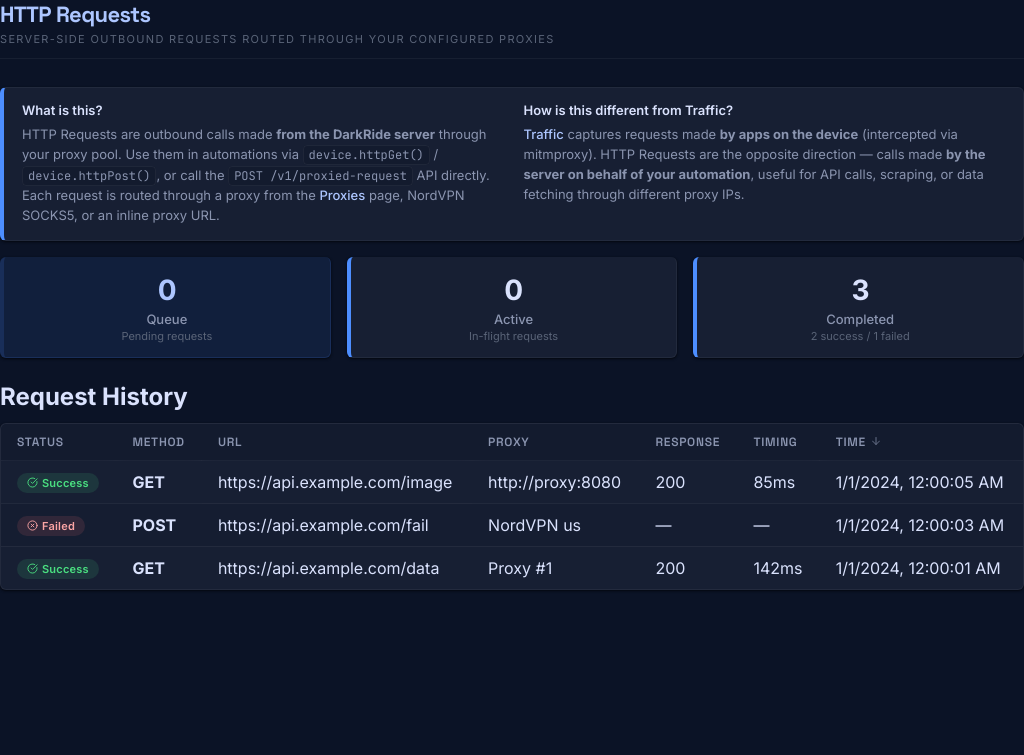
it: ProxiedRequests › shows binary indicator for base64 response
Step 1. Click the row with test id "row-req_3" → (512, 482), box x1=1 y1=460 x2=1023 y2=503
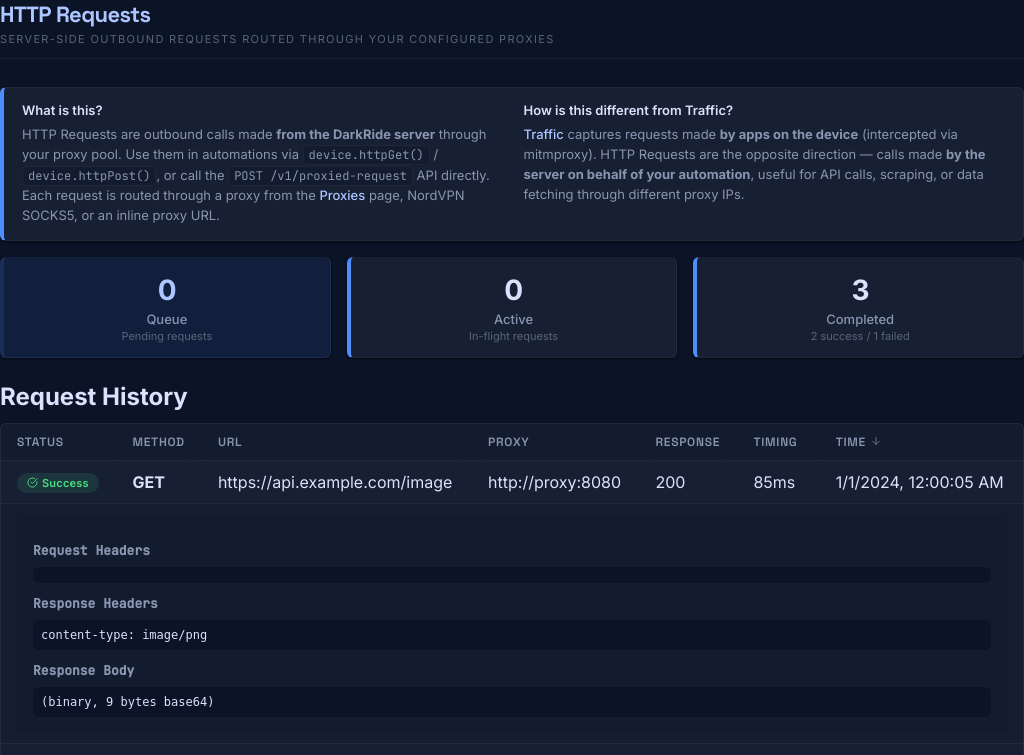
expect the element with test id "detail-req_3" shows "binary": met, box x1=41 y1=695 x2=106 y2=709
expect the element with test id "detail-req_3" shows "bytes base64": met, box x1=113 y1=695 x2=214 y2=709
